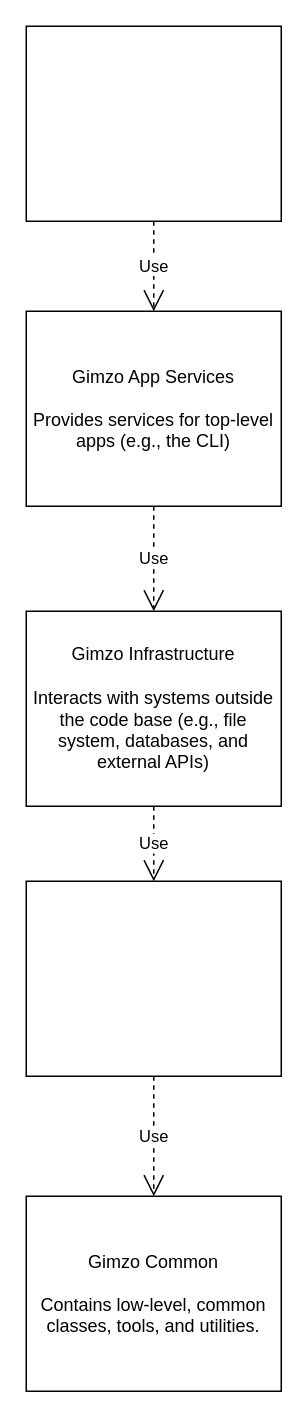
Image size: 308x1418. Some labels were removed from this diagram. Each missing label, with the box of its shape:
Gimzo Analysis Contains domain-level classes and such.: (25, 880, 281, 1076)
Gimzo CLI Console app for interacting with internal and external data.: (25, 25, 281, 221)
